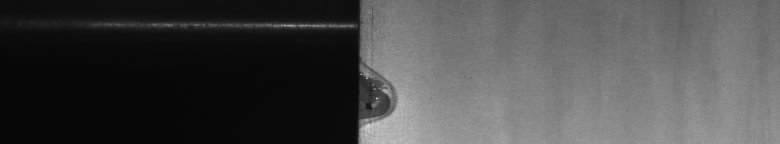hb: (368, 7, 404, 132)
